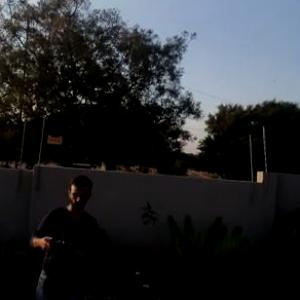follow: (25, 165, 103, 299)
